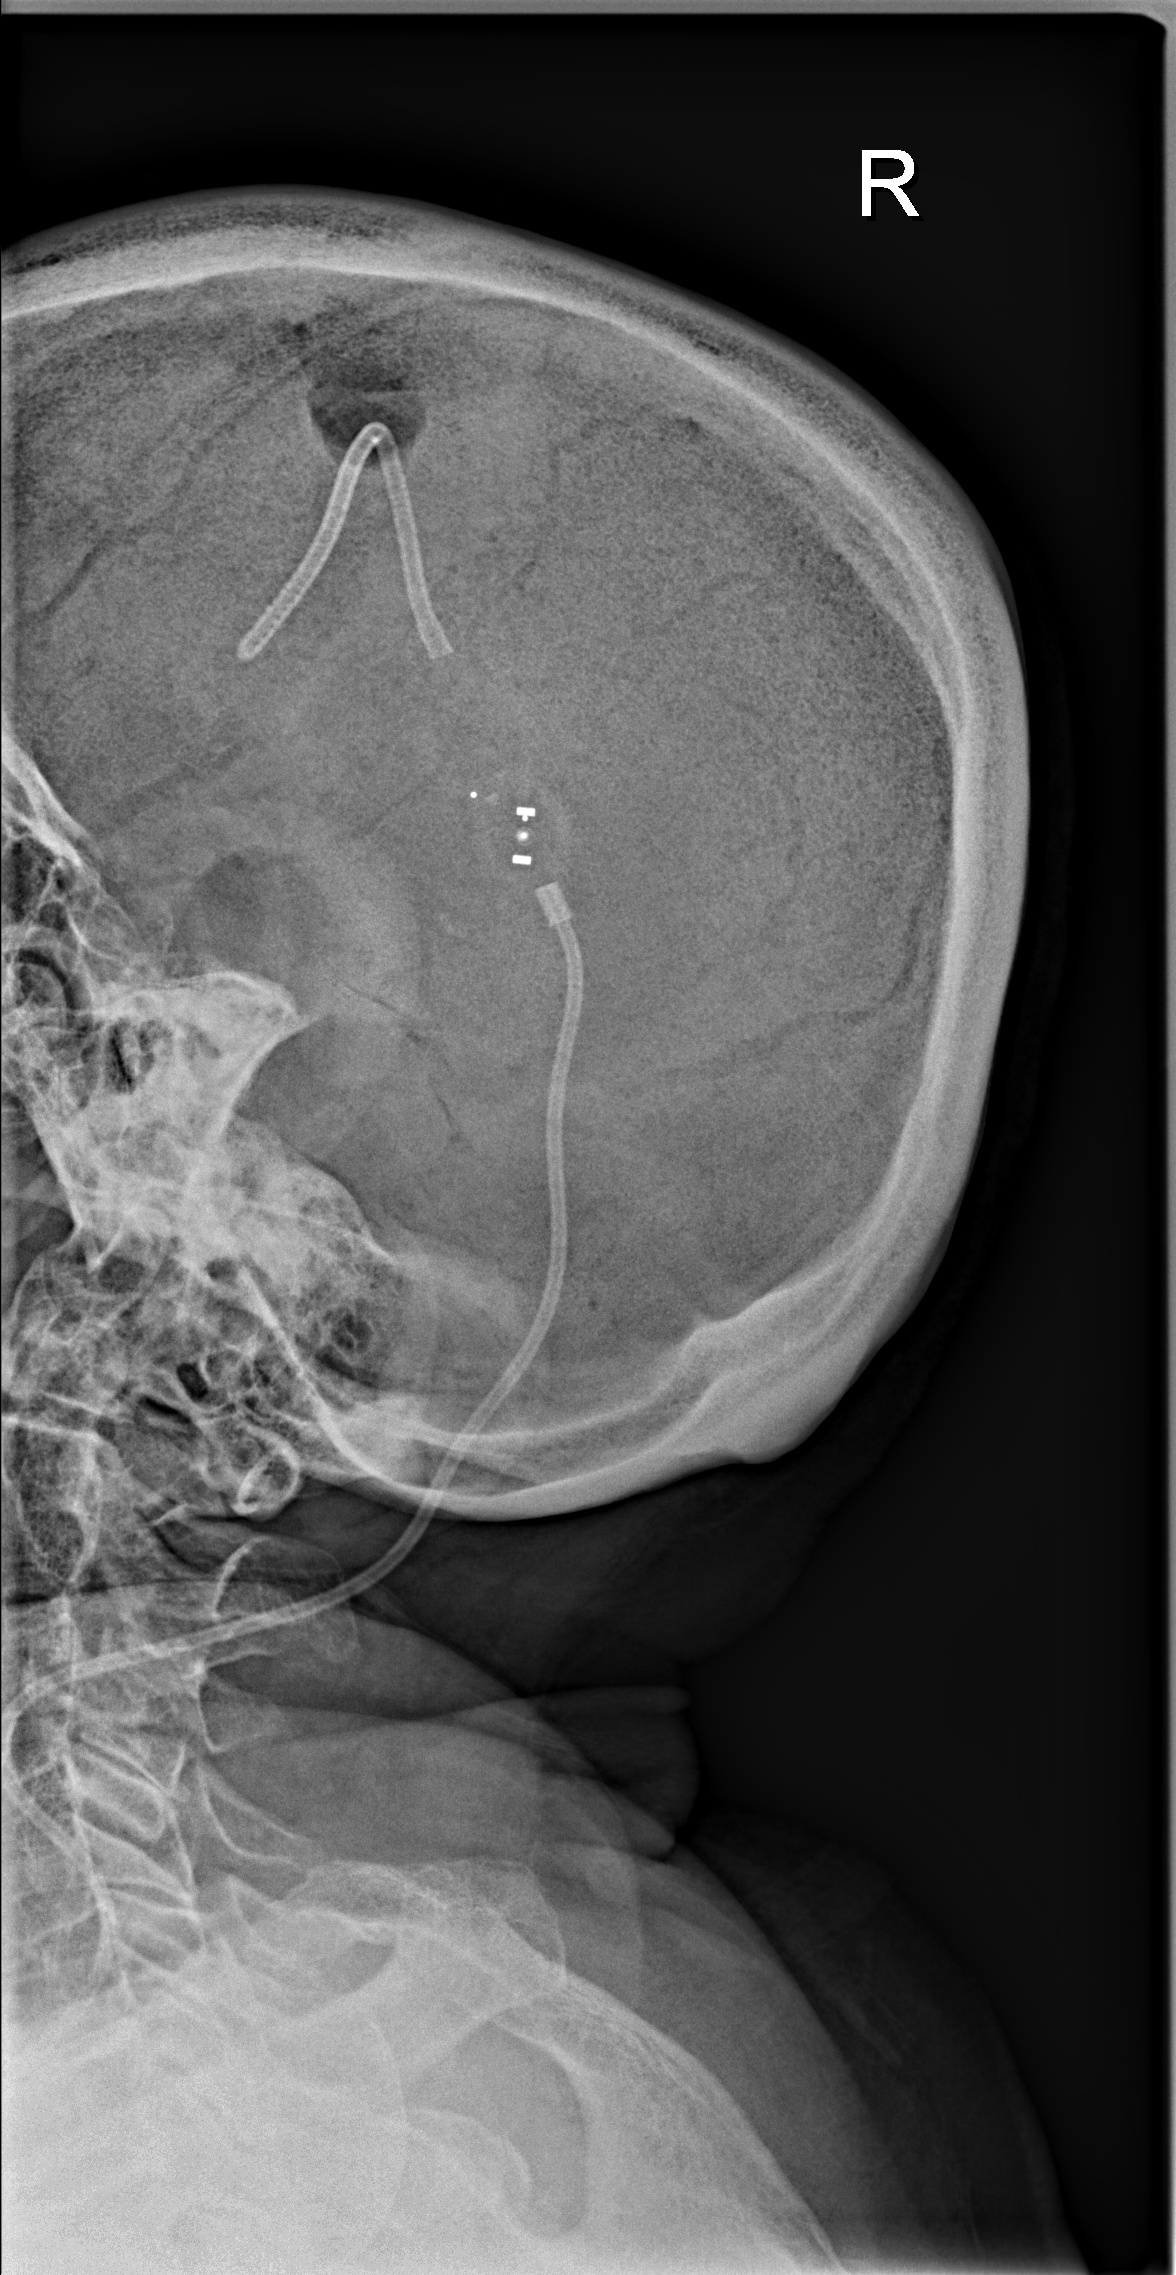Codman Certas: (454, 760, 586, 900)
